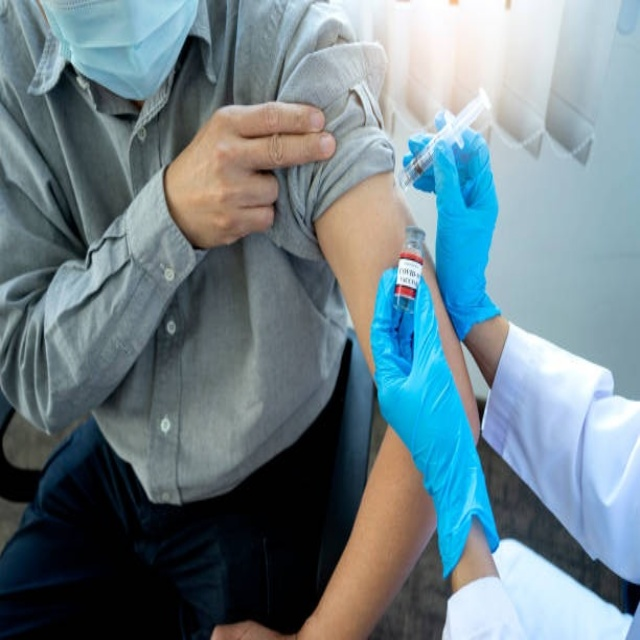Guantes: (373, 259, 506, 574), (407, 105, 504, 329)
Mascara: (32, 0, 202, 98)
Sin_guantes: (164, 89, 338, 242)
